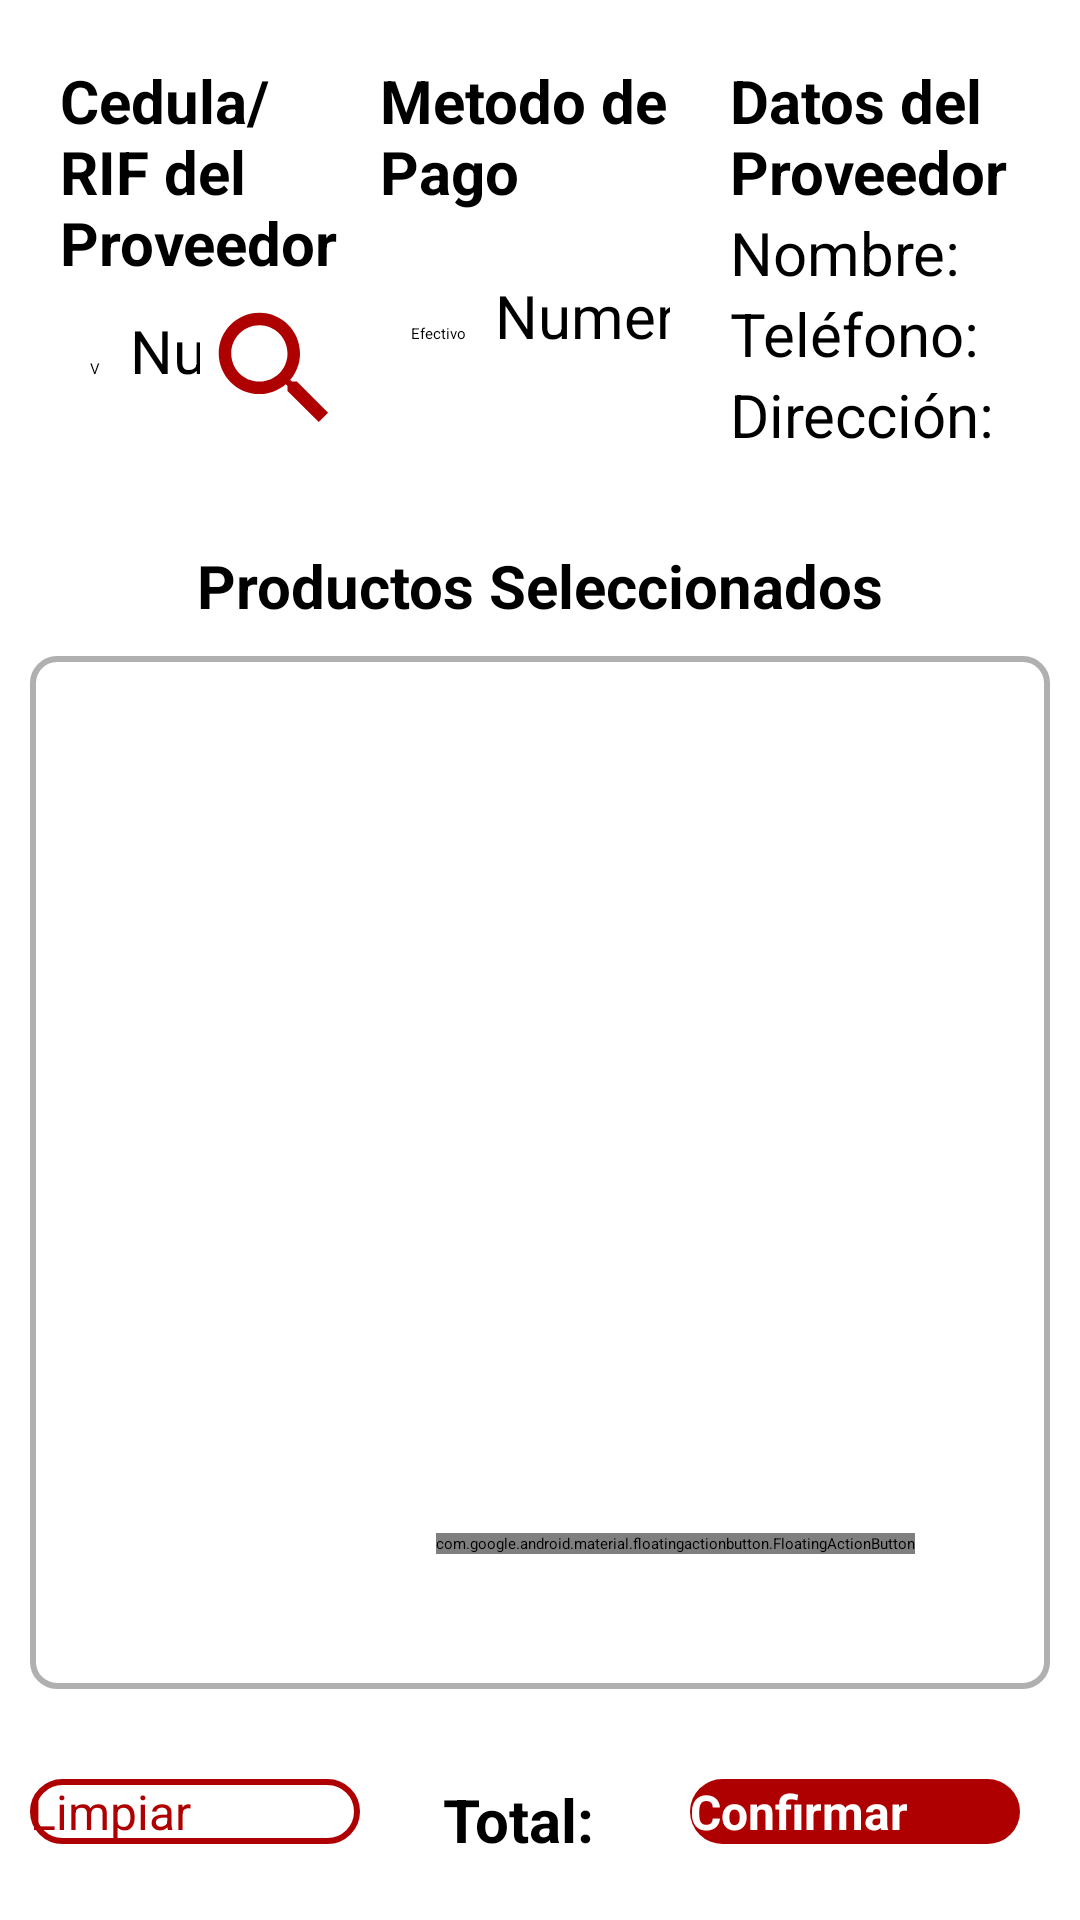

Where to tap for icons on this 1080px x 1920px app screen, as (x,y):
buscar: (273,367)
